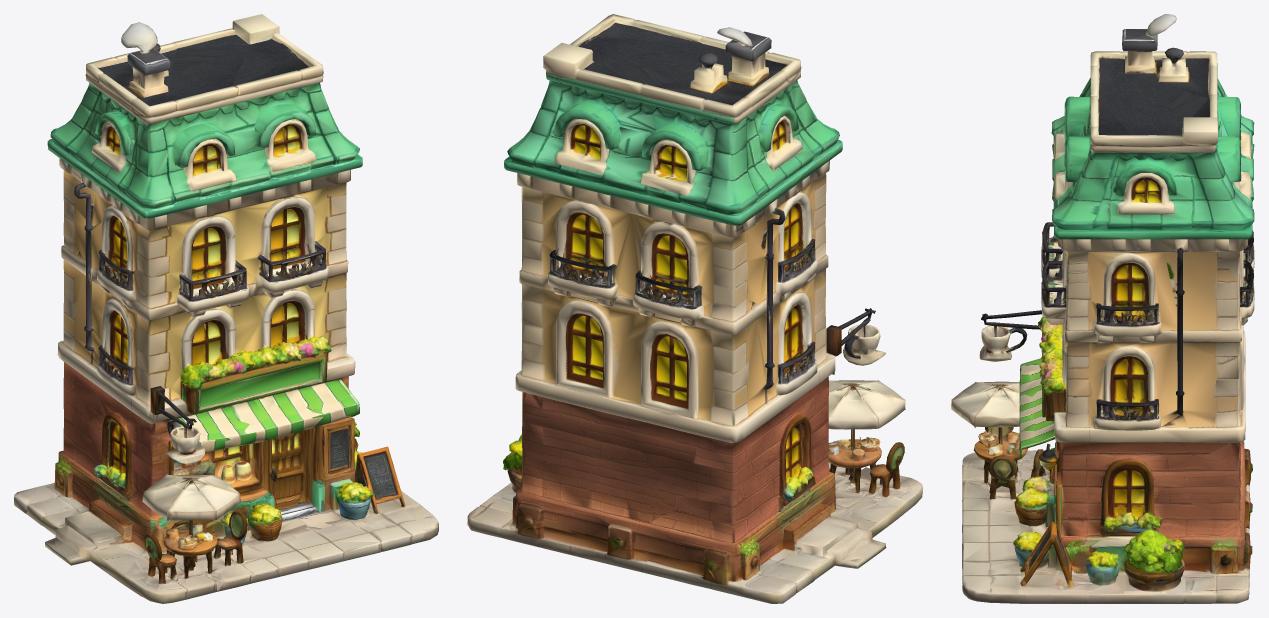
Rendered from immeuble3.glb.
3 views of the same model, side by side, from view 1: azimuth 30°, elevation 25°; view 2: azimuth 150°, elevation 25°; view 3: azimuth 270°, elevation 25° (orthographic). The views are drawn at different scales.
Parts seen in each view (by area): view 1: Mesh_0; view 2: Mesh_0; view 3: Mesh_0.
Part boxes in pixels (box(x1,y1,x2,y2)): Mesh_0: box(14, 14, 438, 603); Mesh_0: box(467, 14, 922, 603); Mesh_0: box(951, 14, 1254, 603).
Size of the model in its own units: 1.29 by 1.9 by 1.07.
Materials: 1 (1 with a texture image).
